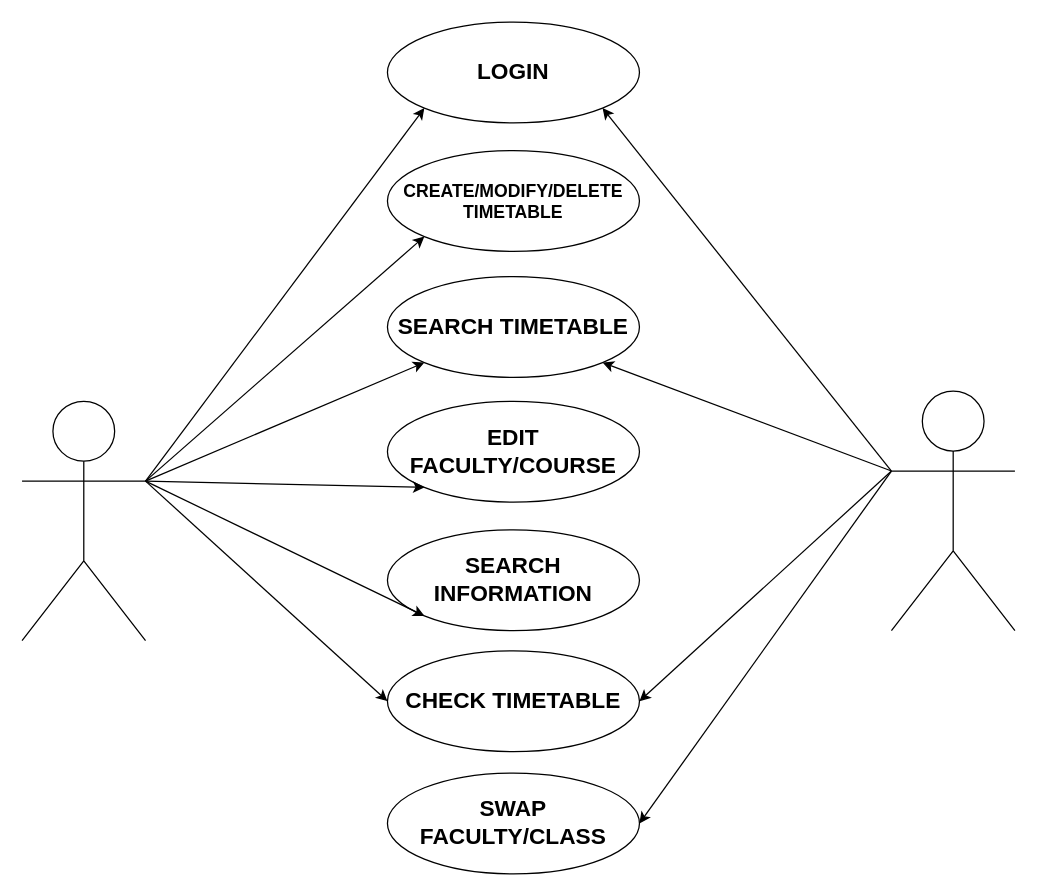
Some shapes in this 1037 by 896 pixel diagram are drawn without their labels. The shapes that lost their labels are listed below. From the top down, each one's box as (x1, y1, x2, y2) in pixels, then its label:
(21, 400, 146, 641): HOD (ADMIN)
(890, 390, 1015, 631): FACULTY
